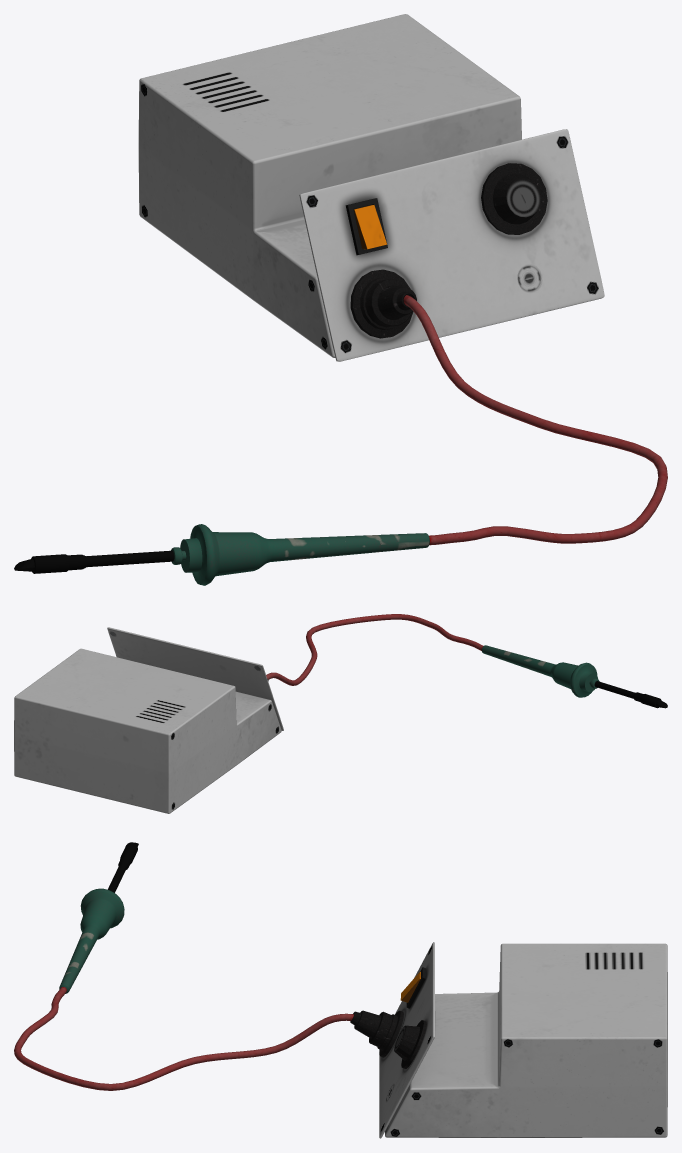
File: SoldierMachine.fbx
The picture shows the model from 3 angles, top to bottom: view 1: azimuth 30°, elevation 25°; view 2: azimuth 150°, elevation 25°; view 3: azimuth 270°, elevation 25°; orthographic projection. The views are drawn at different scales.
Parts seen in each view (by area): view 1: Soldier_Machine; view 2: Soldier_Machine; view 3: Soldier_Machine.
Boxes of the visible parts, <box> form: Soldier_Machine: <box>14,14,667,585</box>; Soldier_Machine: <box>14,614,667,813</box>; Soldier_Machine: <box>14,842,667,1138</box>.
Size of the model in its own units: 70.91 by 12.68 by 72.85.
